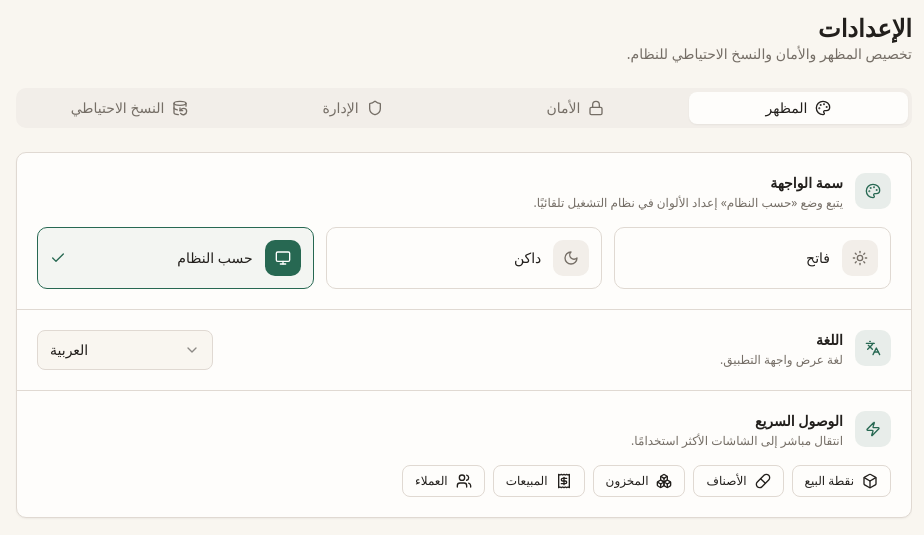
Test case: settings page › locks admin pages the role cannot open
The image size is (924, 535).
Click the tab "الإدارة" at {"x": 352, "y": 108}, box [243,92,462,124]
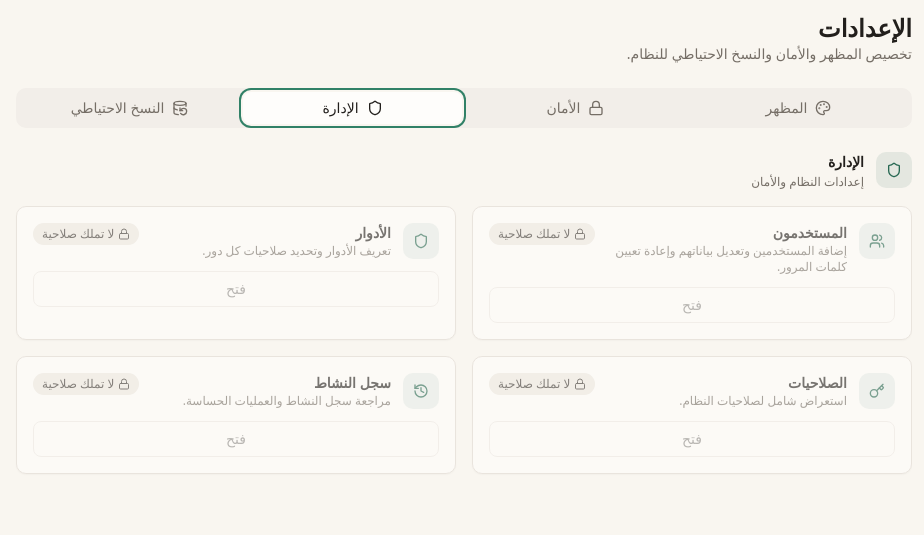
Result: the text "لا تملك صلاحية" is shown 4 times at [489,223,595,245]; [33,223,139,245]; [489,373,595,395]; [33,373,139,395]
Result: the text "لا تملك صلاحية" is shown at [498,225,570,242]
Result: the button "فتح" below "المستخدمون" is disabled at [489,287,895,323]
